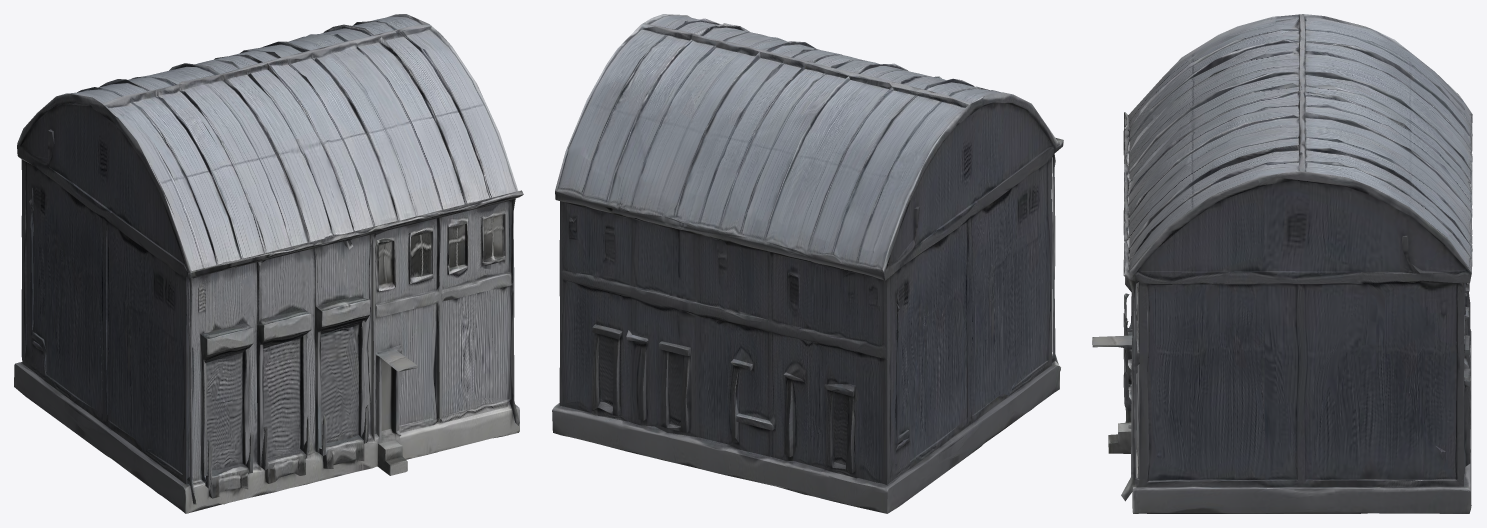
The model's file is predio_galpao.glb.
The picture shows the model from 3 angles, left to right: view 1: azimuth 30°, elevation 25°; view 2: azimuth 150°, elevation 25°; view 3: azimuth 270°, elevation 25°; orthographic projection.
Visible parts, largest first — view 1: tripo_node_a7aeb085-944b-4f0b-afaf-c871a8e1f858; view 2: tripo_node_a7aeb085-944b-4f0b-afaf-c871a8e1f858; view 3: tripo_node_a7aeb085-944b-4f0b-afaf-c871a8e1f858.
Part boxes in pixels (box(x1,y1,x2,y2)): tripo_node_a7aeb085-944b-4f0b-afaf-c871a8e1f858: box(14, 14, 523, 513); tripo_node_a7aeb085-944b-4f0b-afaf-c871a8e1f858: box(552, 14, 1063, 513); tripo_node_a7aeb085-944b-4f0b-afaf-c871a8e1f858: box(1092, 14, 1472, 513).
Bounding box in the file's own units: 0.9998 × 0.997 × 0.9997.
Materials: 1 (1 with a texture image).
